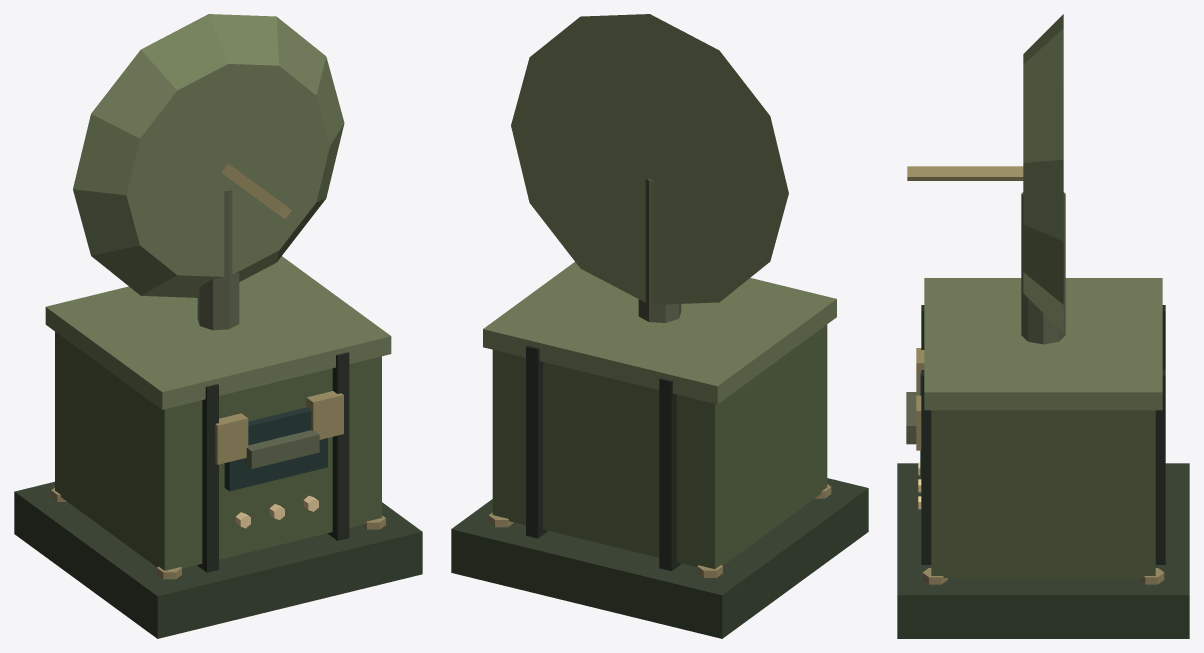
Rendered from radar.obj.
3 views of the same model, side by side, from view 1: azimuth 30°, elevation 25°; view 2: azimuth 150°, elevation 25°; view 3: azimuth 270°, elevation 25° (orthographic). The views are drawn at different scales.
Parts seen in each view (by area): view 1: BASE.021; view 2: BASE.021; view 3: BASE.021.
Boxes of the visible parts, left/top/right/bottom form: BASE.021: left=14, top=14, right=422, bottom=638; BASE.021: left=451, top=14, right=868, bottom=638; BASE.021: left=897, top=14, right=1189, bottom=638.
Size of the model in its own units: 0.8 by 1.5 by 0.73.
1 material, 1 textured.
